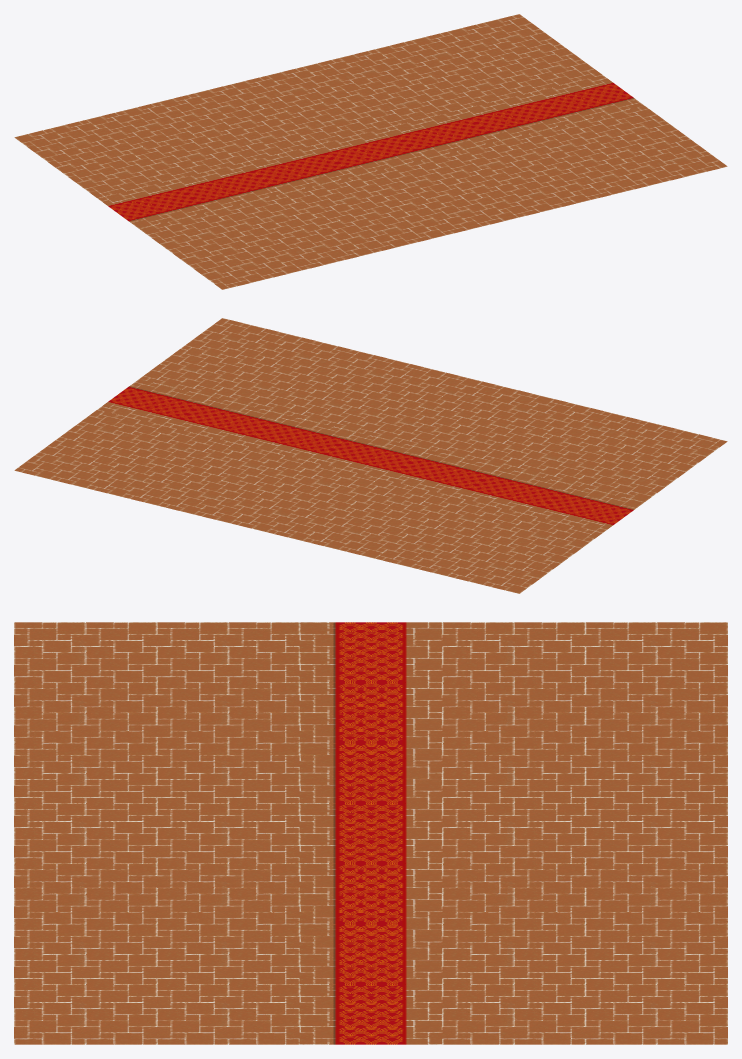
The model's file is Ground_plane.fbx.
3 views of the same model, one above another, from view 1: azimuth 30°, elevation 25°; view 2: azimuth 150°, elevation 25°; view 3: azimuth 270°, elevation 25° (orthographic). The views are drawn at different scales.
Visible parts, largest first — view 1: Brick; view 2: Brick; view 3: Brick.
Boxes of the visible parts, x1,y1,x2,y2 form: Brick: (14,14,727,289); Brick: (14,318,727,593); Brick: (14,622,727,1044).
Bounding box in the file's own units: 5600 × 8.88e-14 × 4000.
2 materials, 2 textured.
